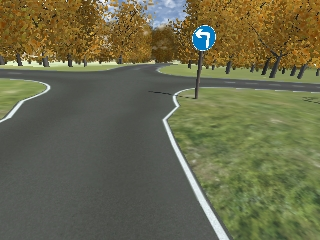left: (190, 25, 219, 50)
